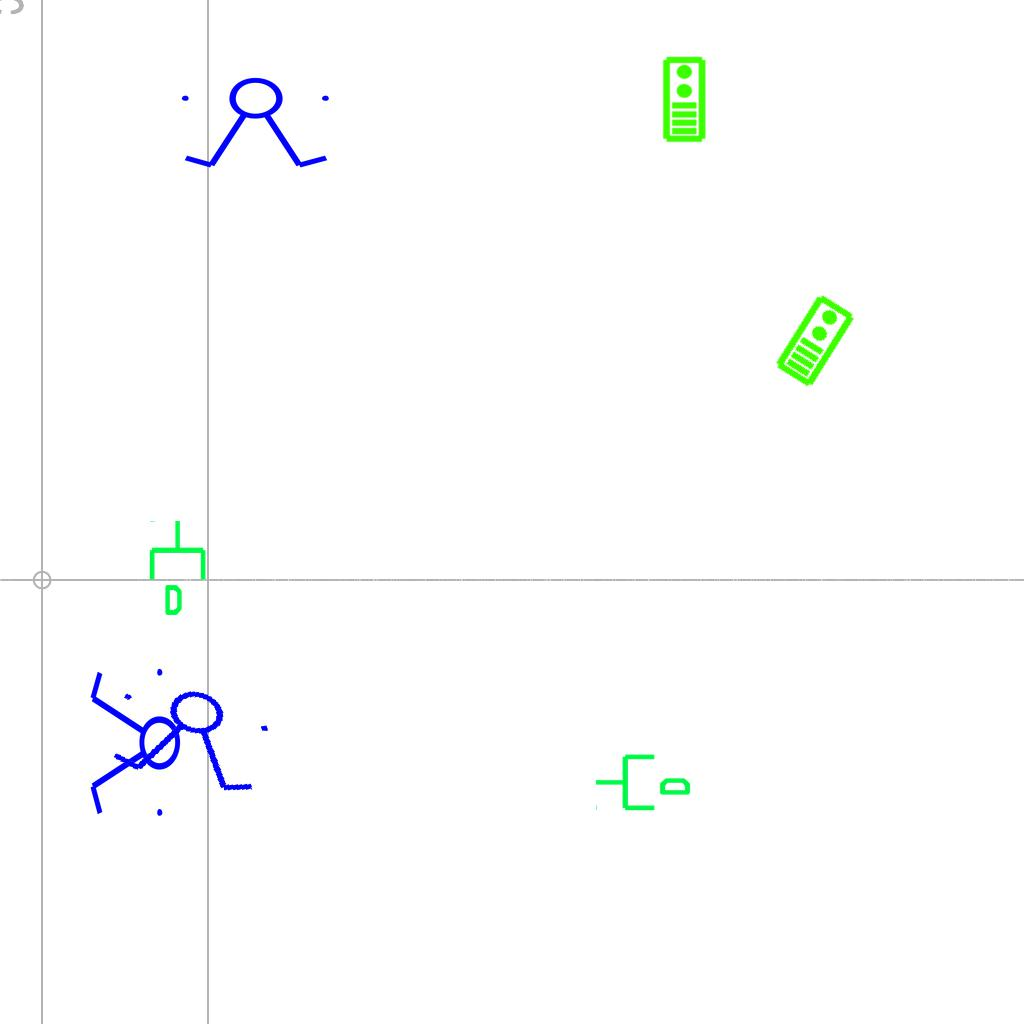Datenanschluss_einfach: (145, 518, 214, 618), (593, 746, 693, 815)
Gegensprechanlage_mit_Video: (771, 290, 858, 390), (660, 55, 707, 143)
Serienschalter: (99, 672, 285, 804), (173, 76, 341, 172), (86, 660, 182, 828)
